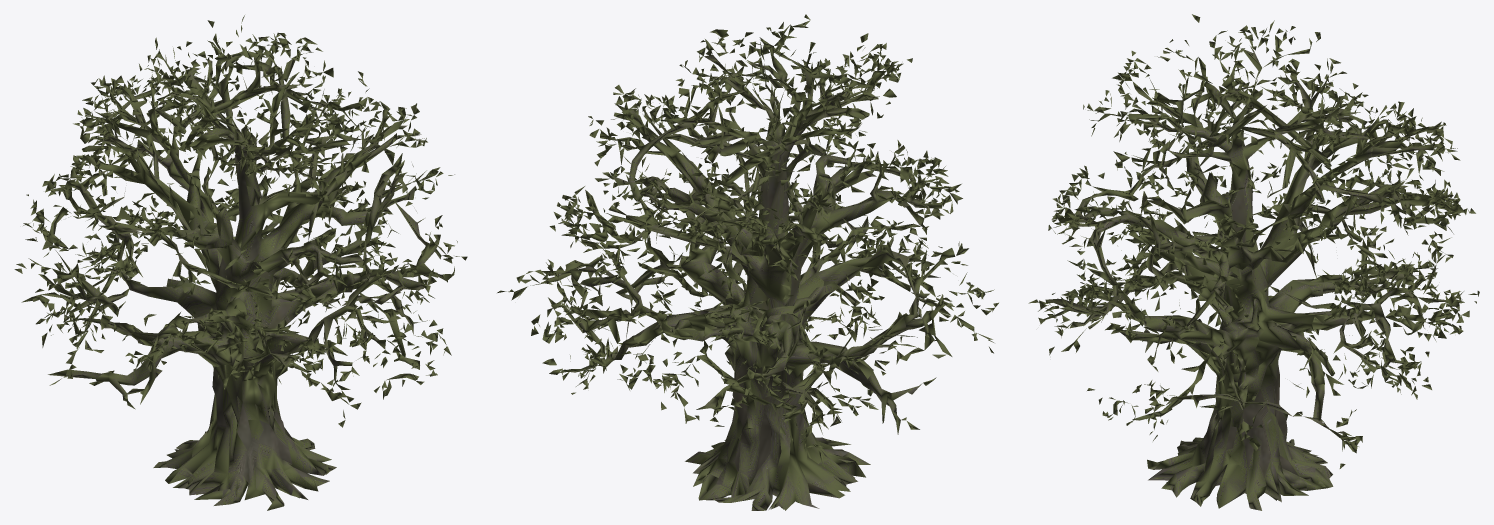
File: tree_oak.glb
The picture shows the model from 3 angles, left to right: view 1: azimuth 30°, elevation 25°; view 2: azimuth 150°, elevation 25°; view 3: azimuth 270°, elevation 25°; orthographic projection. The views are drawn at different scales.
Parts seen in each view (by area): view 1: tree_oak; view 2: tree_oak; view 3: tree_oak.
Part boxes in pixels (x1=…): tree_oak: x1=14, y1=15, x2=467, y2=510; tree_oak: x1=497, y1=14, x2=998, y2=510; tree_oak: x1=1028, y1=14, x2=1479, y2=510.
Bounding box in the file's own units: 177 × 185 × 174.
1 material, 1 textured.
